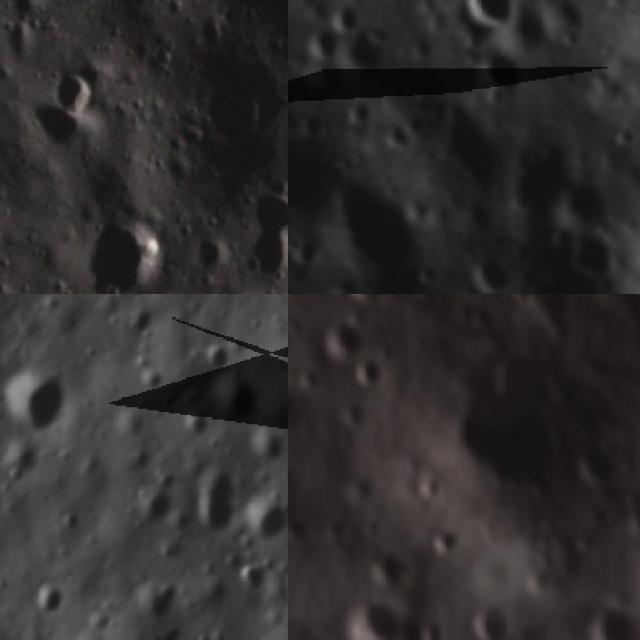crater: (333, 178, 427, 282), (81, 213, 169, 294), (187, 78, 267, 152), (2, 366, 64, 440), (469, 47, 531, 101), (31, 101, 88, 153), (244, 175, 288, 238), (572, 236, 622, 289), (288, 151, 328, 217), (195, 466, 236, 530), (47, 66, 95, 119), (217, 380, 262, 430), (348, 588, 388, 640), (317, 308, 357, 358), (466, 255, 517, 294), (458, 0, 518, 33), (250, 233, 288, 285), (129, 483, 168, 530), (584, 606, 632, 640), (472, 600, 509, 640), (254, 499, 288, 541), (304, 26, 342, 63), (347, 359, 389, 390), (330, 3, 367, 37), (378, 121, 412, 154), (194, 344, 232, 372), (610, 119, 640, 152), (33, 588, 64, 616), (402, 111, 429, 143), (178, 412, 205, 444), (426, 533, 454, 562), (412, 264, 443, 290), (346, 98, 372, 125), (414, 474, 439, 502), (341, 402, 365, 430), (300, 114, 323, 141), (430, 100, 448, 126), (288, 106, 303, 137), (357, 516, 377, 537), (532, 549, 552, 567), (498, 294, 531, 304), (288, 234, 302, 257)
